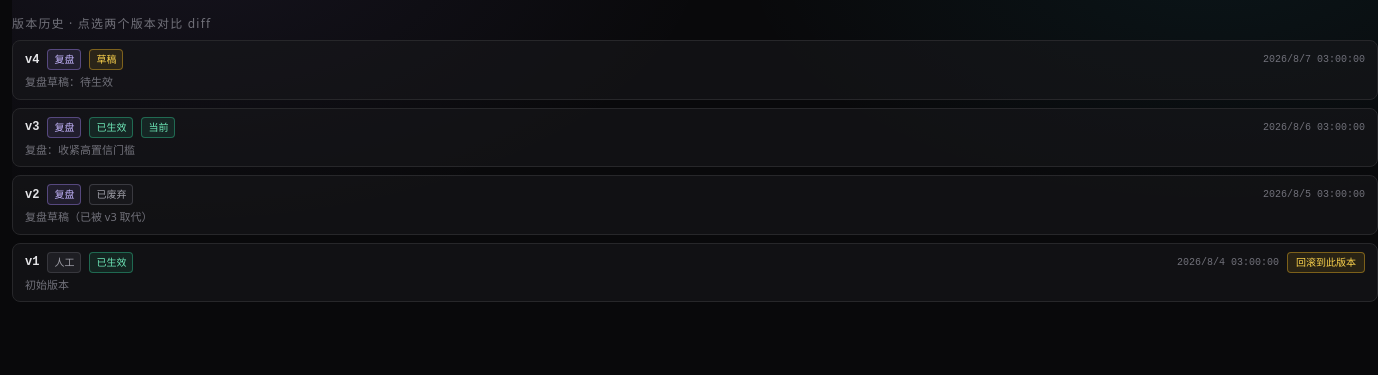
Test: ResearchPromptVersions(研报提示词版本历史) › 两版本内容一致时 diff 区给出明确提示而非空白
Expected: the text "v4" is shown, [25,52,39,68]
What coordinates should you click on to do the following:
click the text "v2"
I would click on:
 (32, 194)
Its box is [25,186,39,202].
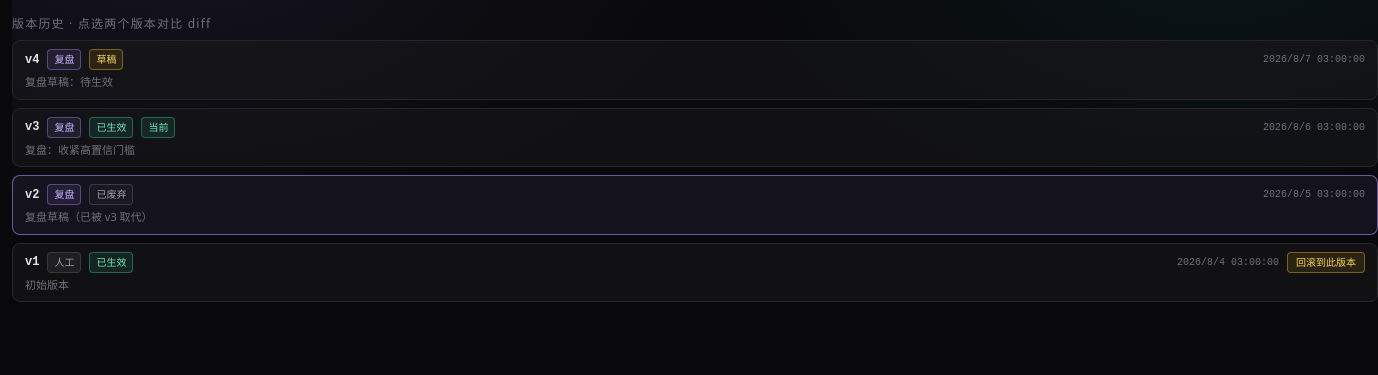
What coordinates should you click on to do the following:
click the text "v1"
I would click on:
 (32, 262)
Its box is [25,254,39,270].
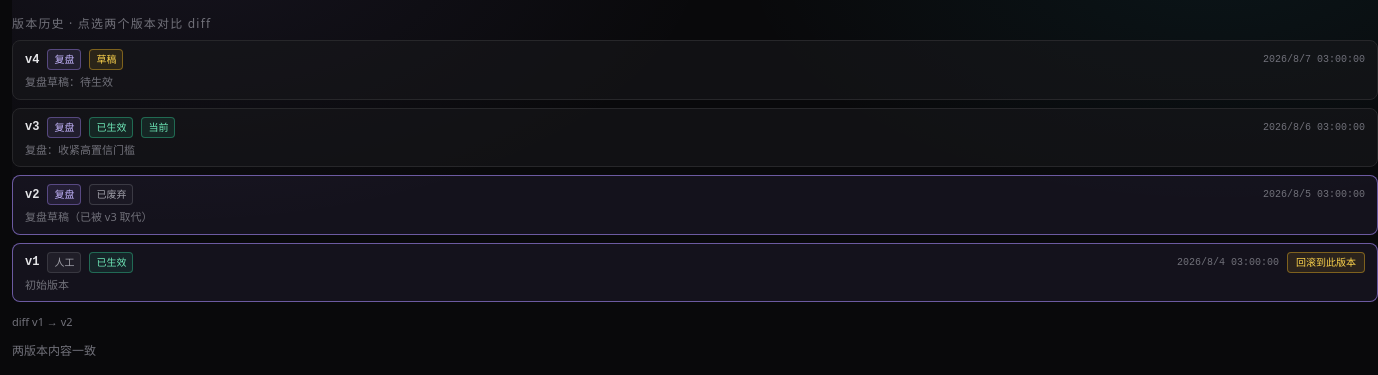
Expected: the text "两版本内容一致" is shown, [12,342,96,358]
